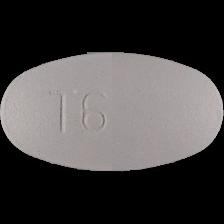60429-315: (0, 0, 224, 224)
